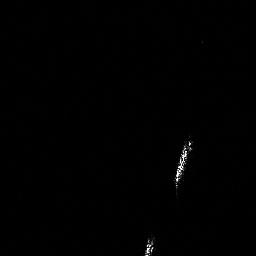ship: (171, 136, 194, 191)
